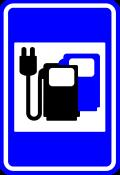Petrol Pump- Gas Station: (7, 22, 108, 157)
